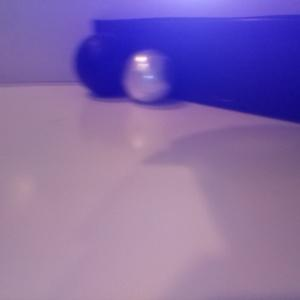alive_ball: (122, 48, 173, 103)
dead_ball: (74, 33, 131, 95)
